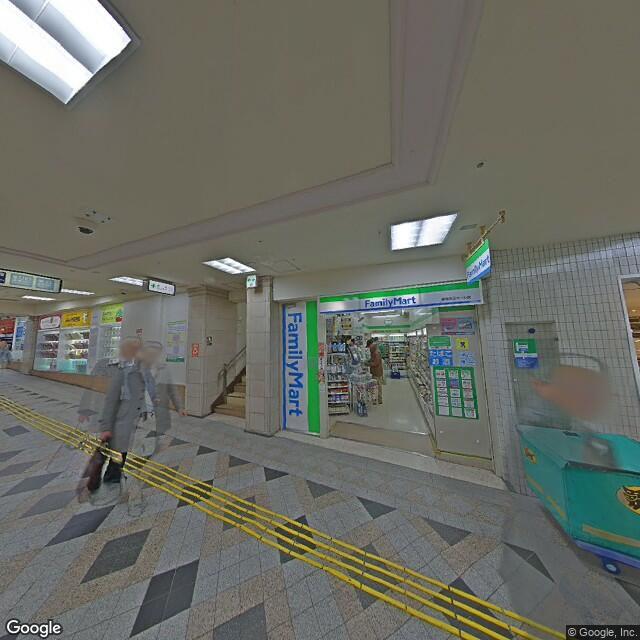family_mart: (314, 275, 485, 324), (276, 297, 326, 446), (463, 236, 495, 286)
